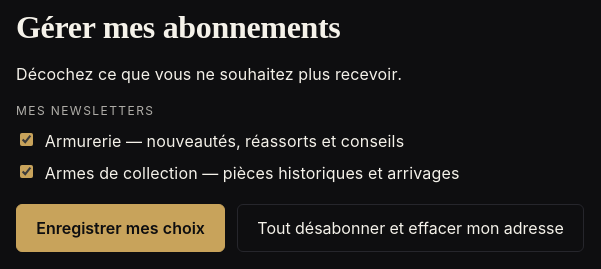
newsletter/desabonnement.vue › sends only the unticked segments, leaving the others subscribed
This screenshot has width=601, height=269.
Click the checkbox labelled "Armes de collection — pièces historiques et arrivages". click: coordinates (26, 172)
box: [20, 165, 33, 178]
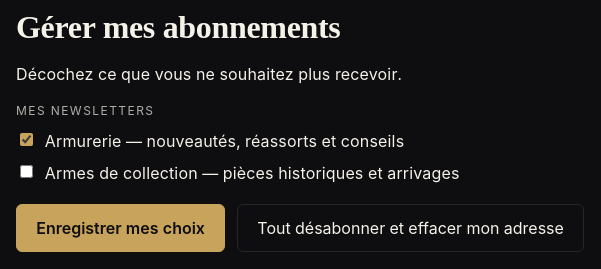
Click the button with class "nlu__save". click: coordinates (121, 228)
box: [16, 204, 225, 252]
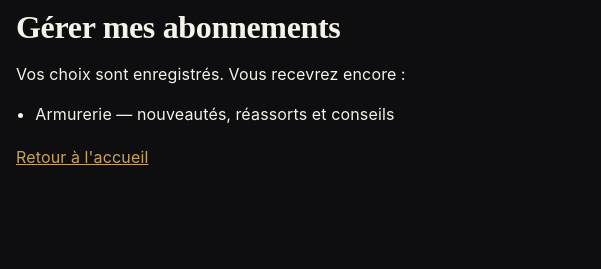
Now the text "Vos choix sont enregistrés" is shown, box [16, 64, 406, 84]
